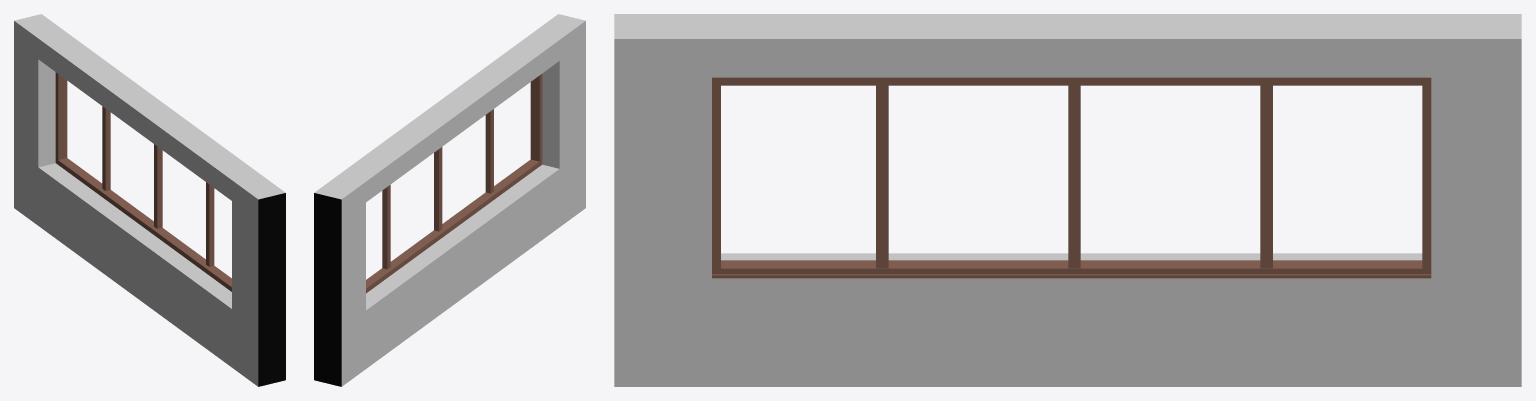
Rendered from window_wall.glb.
3 renders of one model, left to right at view 1: azimuth 30°, elevation 25°; view 2: azimuth 150°, elevation 25°; view 3: azimuth 270°, elevation 25°, orthographic. The views are drawn at different scales.
Parts seen in each view (by area): view 1: WindowWallMesh; view 2: WindowWallMesh; view 3: WindowWallMesh.
Boxes of the visible parts, box(x1,y1,x2,y2) form: WindowWallMesh: box(14, 14, 285, 386); WindowWallMesh: box(314, 14, 585, 386); WindowWallMesh: box(614, 14, 1521, 386).
Size of the model in its own units: 0.6119 by 3.98 by 9.41.
